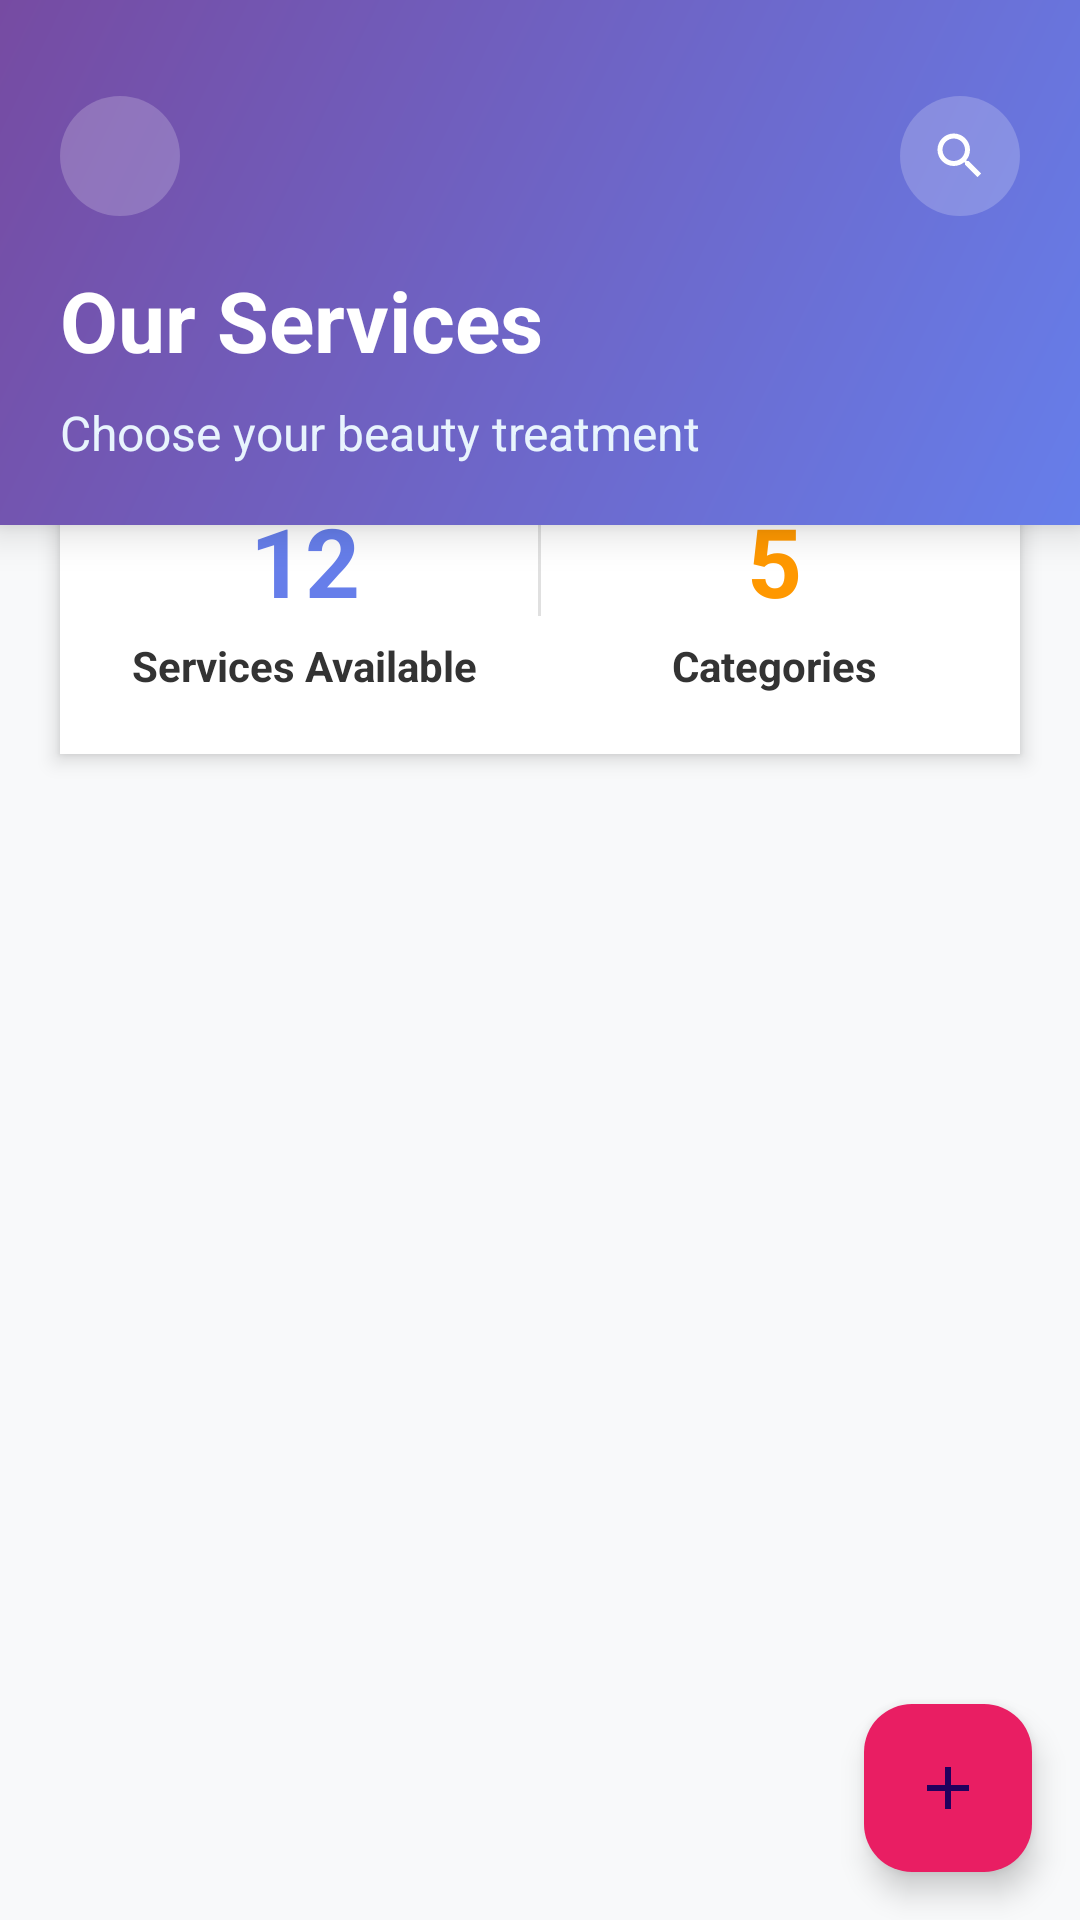

Icons on this 1080w x 1920h Android screen, each with the point to tap as [x,y]:
Add New Service: [948,1788]
search: [960,156]
